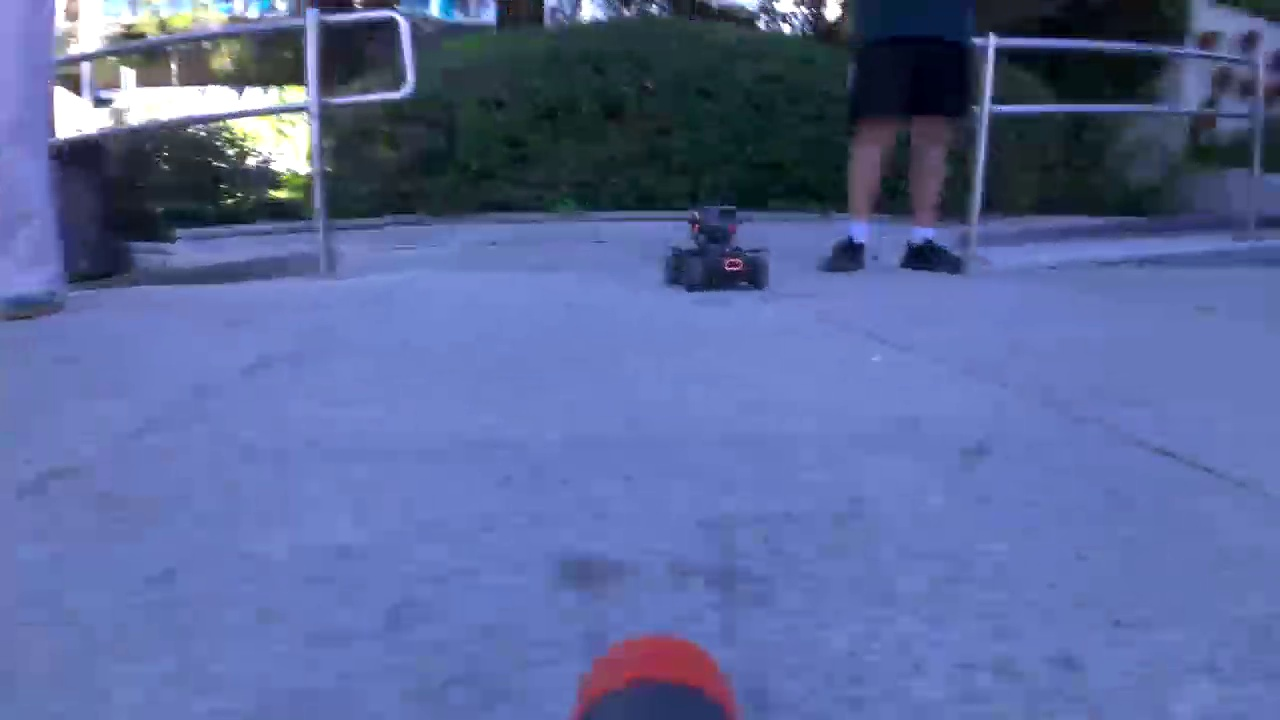robot: (663, 201, 772, 294)
